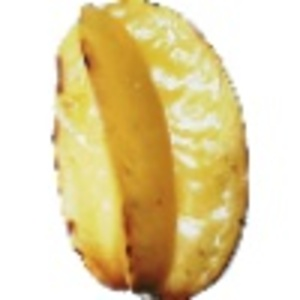carambola: (51, 1, 251, 300)
